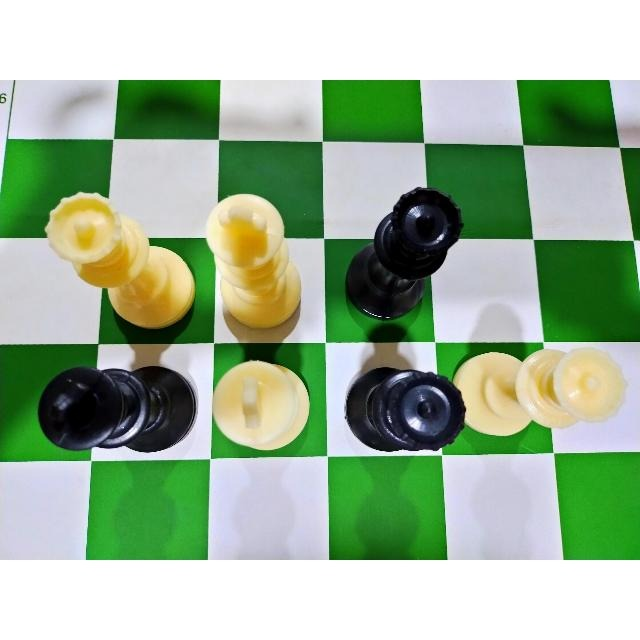black-king: (31, 364, 199, 452)
black-queen: (345, 181, 467, 320), (337, 363, 468, 454)
white-king: (203, 189, 302, 328), (208, 360, 314, 452)
white-queen: (36, 189, 195, 328), (463, 347, 633, 438)
